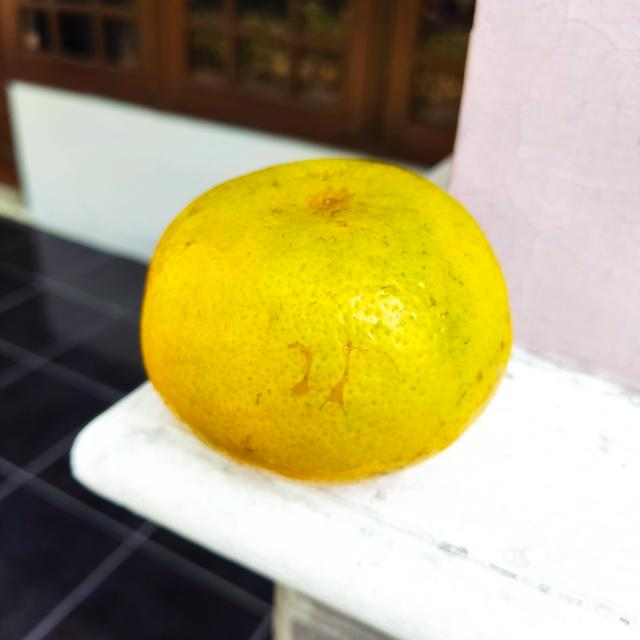orange: (137, 155, 515, 485)
